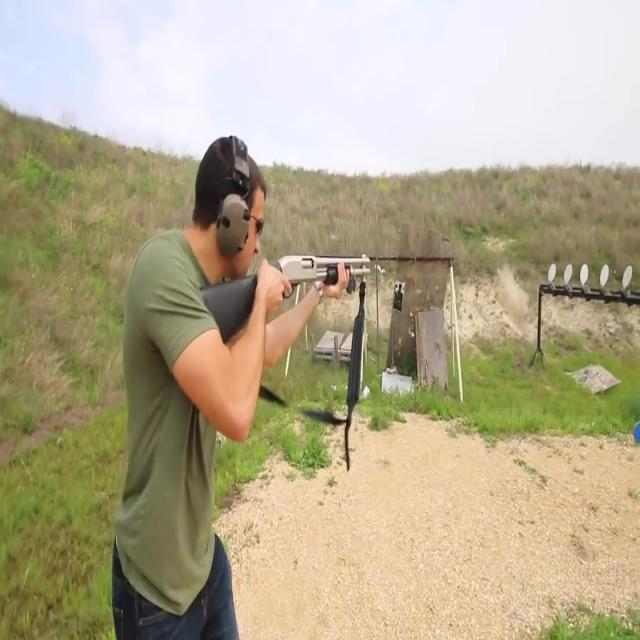Weapon: (189, 244, 420, 358)
